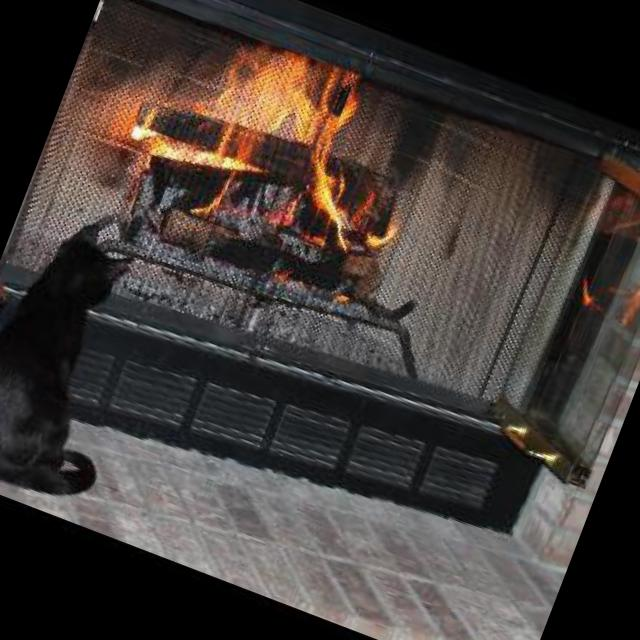fire: (108, 2, 448, 314)
